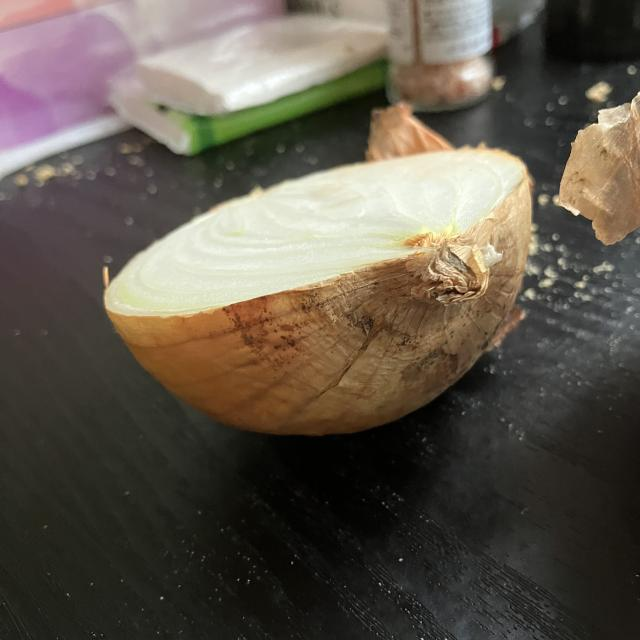onion: (98, 105, 534, 442)
